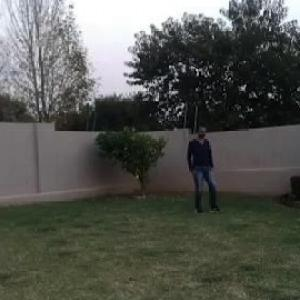follow: (186, 120, 216, 214)
